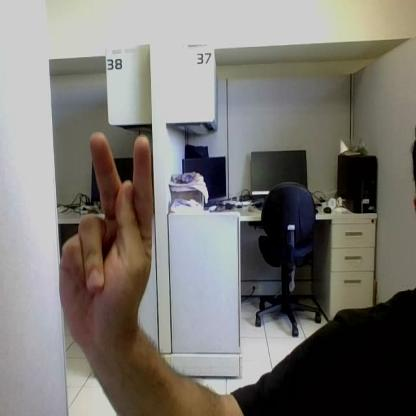K: (60, 134, 153, 336)
